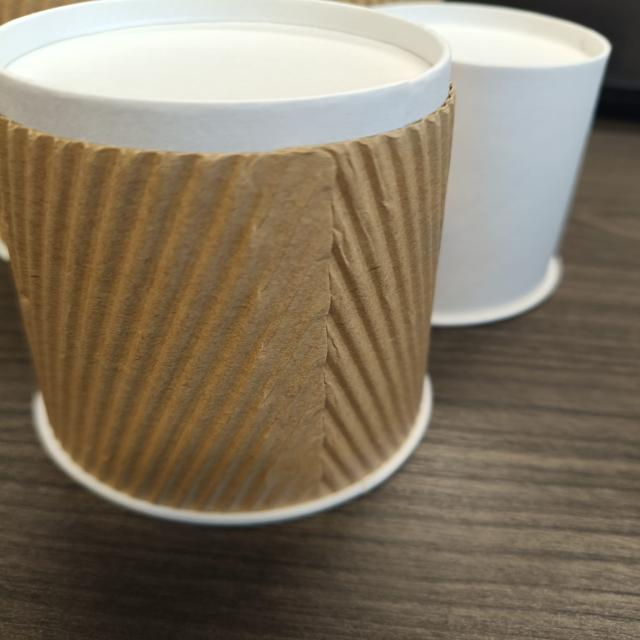Browncup: (0, 0, 461, 524), (6, 0, 89, 25)
Whitecup: (387, 4, 613, 327)
